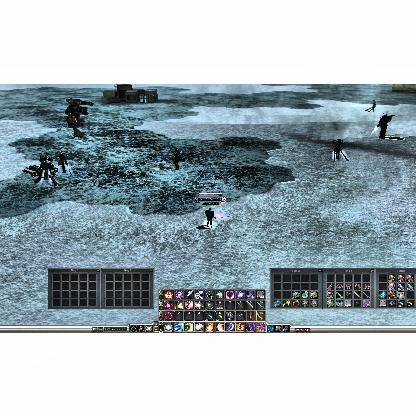caliana: (330, 138, 350, 160), (56, 150, 74, 174), (172, 146, 182, 170), (365, 98, 377, 112)
